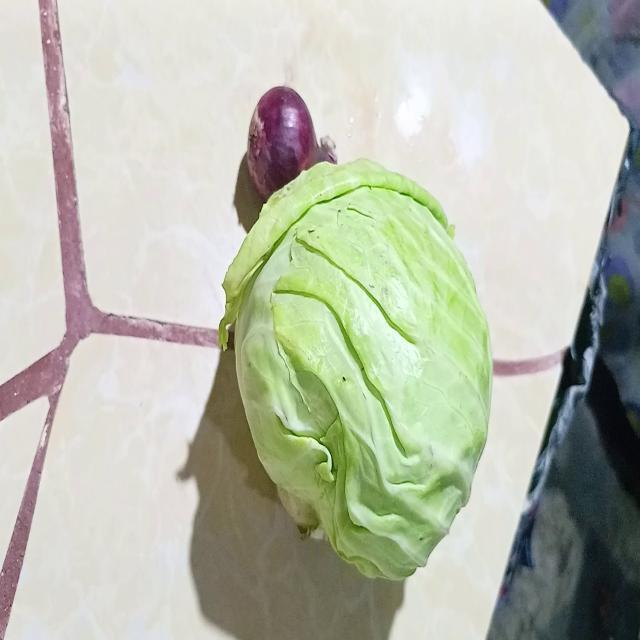cabbage: (217, 160, 492, 583)
onion: (246, 86, 337, 198)
